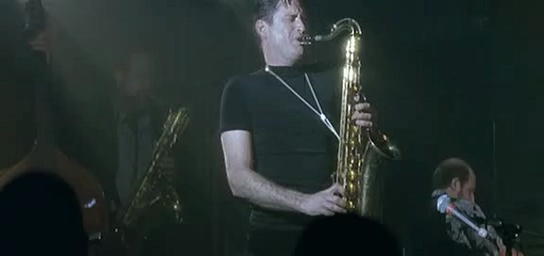face: (276, 5, 309, 60)
ms: (1, 1, 544, 256)
person: (219, 1, 379, 255)
